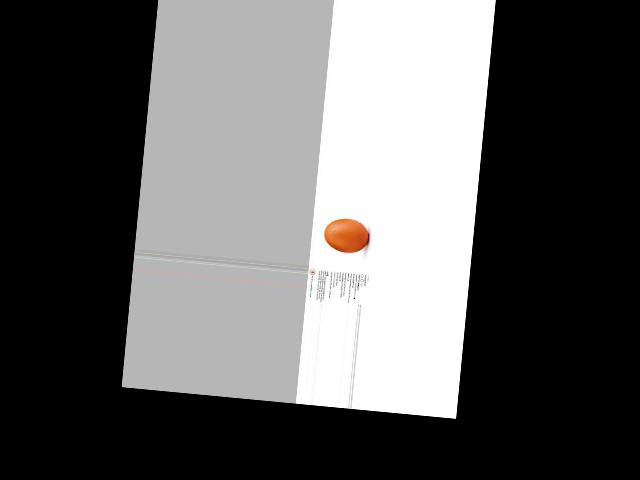egg: (323, 216, 370, 254)
